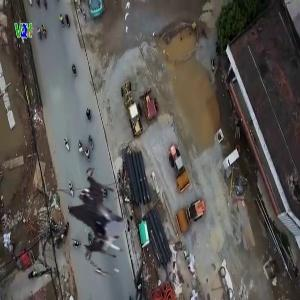drone: (34, 161, 141, 268)
